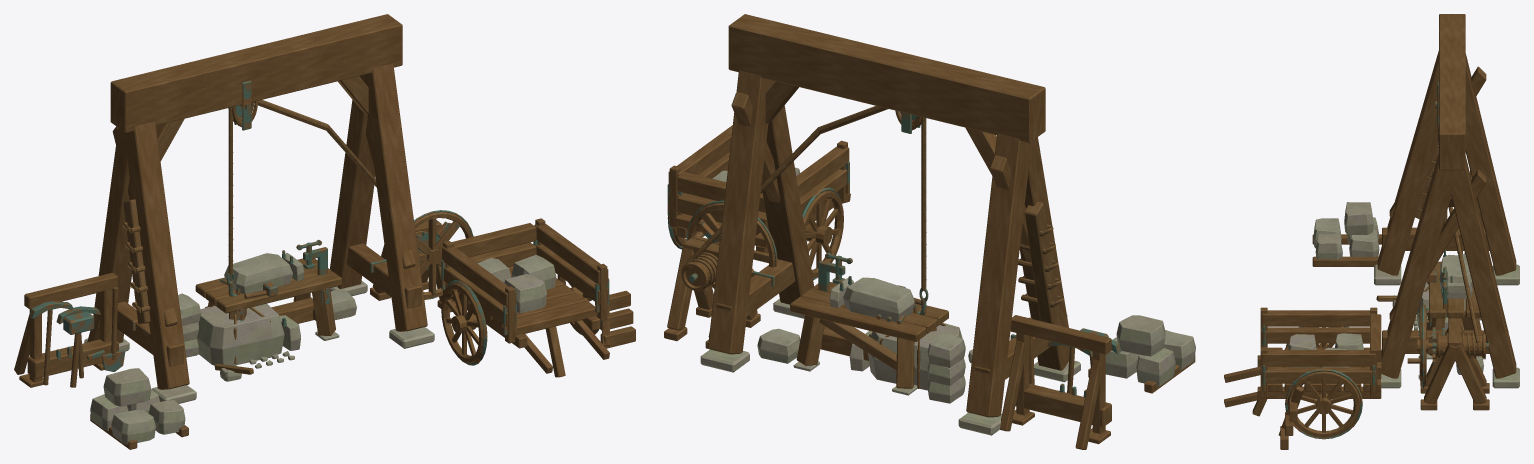
Rendered from equipment-DPeK94YW.glb.
3 renders of one model, left to right at view 1: azimuth 30°, elevation 25°; view 2: azimuth 150°, elevation 25°; view 3: azimuth 270°, elevation 25°, orthographic. The views are drawn at different scales.
Visible parts, largest first — view 1: EquipmentExtraction__wood, EquipmentExtraction__stone, EquipmentExtraction__iron, EquipmentMason__wood, EquipmentMason__stone, EquipmentExtraction__rope, EquipmentMason__iron; view 2: EquipmentExtraction__wood, EquipmentExtraction__stone, EquipmentMason__wood, EquipmentMason__stone, EquipmentExtraction__rope, EquipmentExtraction__iron, EquipmentMason__iron; view 3: EquipmentExtraction__wood, EquipmentExtraction__stone, EquipmentMason__wood, EquipmentExtraction__iron, EquipmentMason__stone, EquipmentExtraction__rope, EquipmentMason__iron.
Part boxes in pixels (x1,y1,x2,y2): EquipmentExtraction__wood: (14, 14, 635, 449); EquipmentExtraction__stone: (84, 255, 556, 444); EquipmentExtraction__iron: (29, 80, 609, 371); EquipmentMason__wood: (195, 258, 341, 335); EquipmentMason__stone: (178, 253, 356, 368); EquipmentExtraction__rope: (122, 99, 423, 363); EquipmentMason__iron: (220, 239, 329, 321); EquipmentExtraction__wood: (664, 14, 1195, 449); EquipmentExtraction__stone: (700, 167, 1195, 435); EquipmentMason__wood: (790, 282, 948, 388); EquipmentMason__stone: (757, 277, 965, 403); EquipmentExtraction__rope: (686, 106, 1063, 388); EquipmentExtraction__iron: (667, 112, 1121, 397); EquipmentMason__iron: (818, 252, 906, 324); EquipmentExtraction__wood: (1224, 14, 1516, 449); EquipmentExtraction__stone: (1288, 202, 1519, 388); EquipmentMason__wood: (1426, 261, 1481, 356); EquipmentExtraction__iron: (1262, 81, 1488, 439); EquipmentMason__stone: (1414, 254, 1485, 374); EquipmentExtraction__rope: (1417, 144, 1480, 358); EquipmentMason__iron: (1426, 266, 1452, 326).
Bounding box in the file's own units: 8.66 × 4.79 × 4.98.
4 materials, 4 textured.
